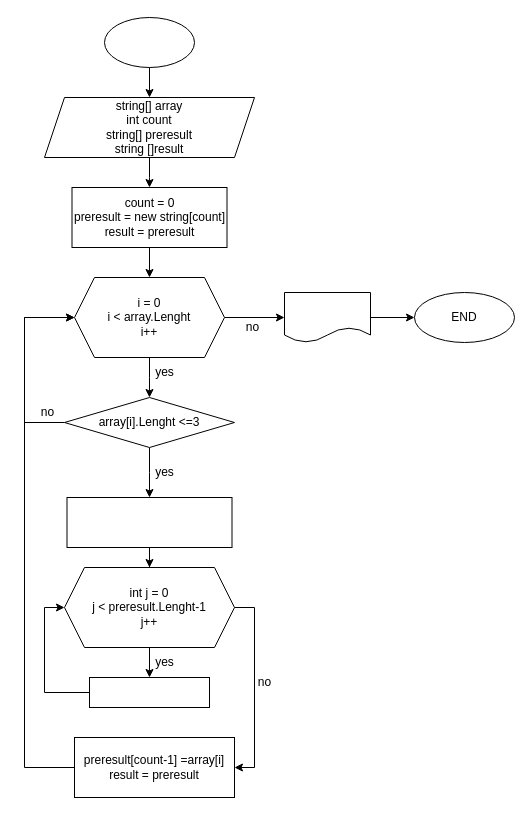
Image size: 532x815. Some labels were removed from this diagram. Here are the shapes that lost their labels. From the top down, the box of each, then its label:
(104, 16, 194, 68): START
(284, 292, 370, 342): return result
(66, 496, 232, 548): count++ preresult = new string[count]
(88, 676, 210, 708): preresult[j]=result[j]
